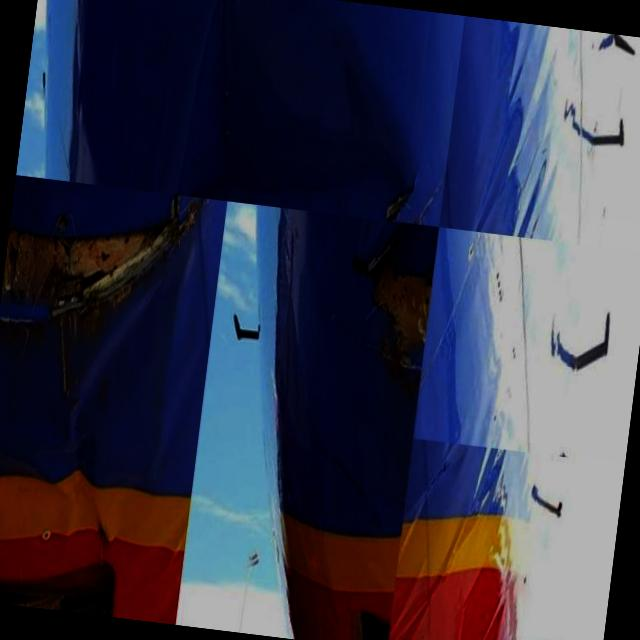crack: (374, 160, 428, 232)
